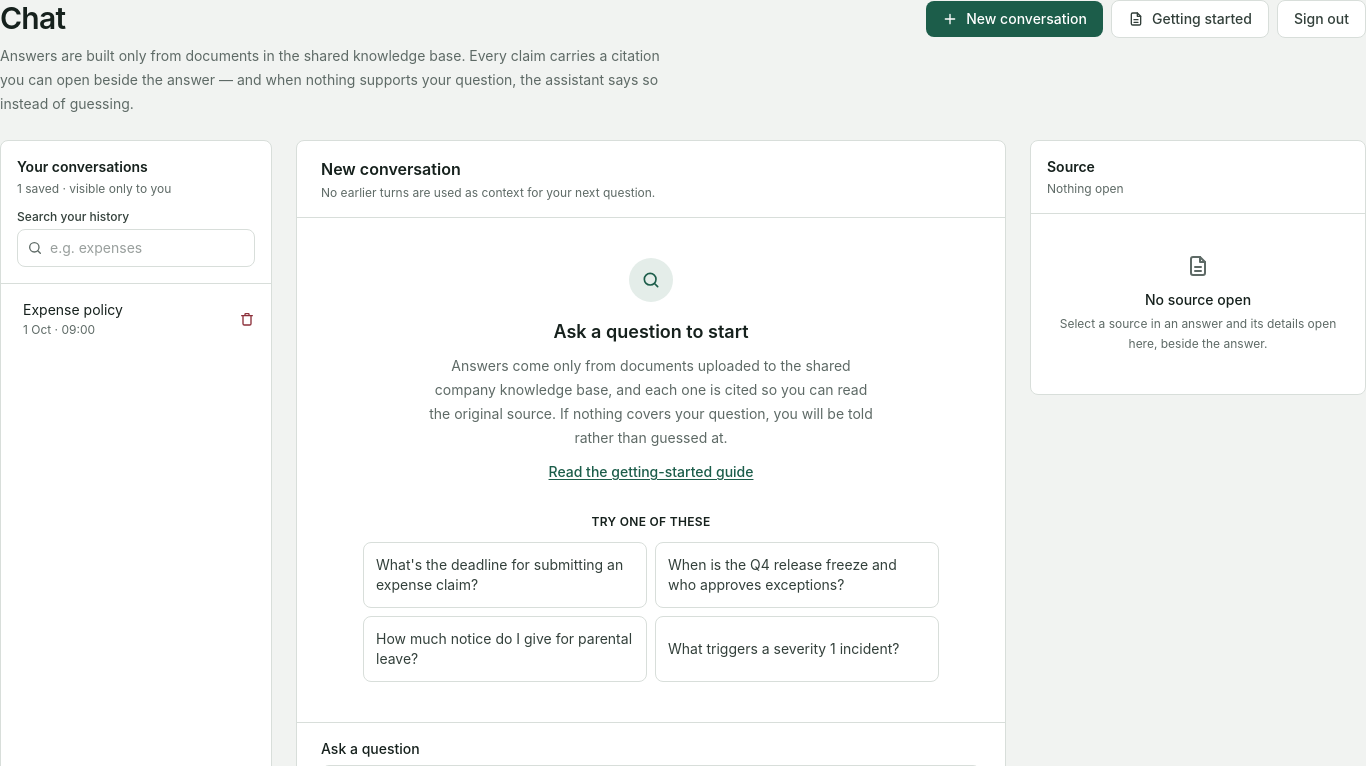
Scenario: Chat screen › reopens a conversation via GET /conversations/{id} and renders ordered turns with clickable citations
Click the text "Expense policy" at (73, 310), box [23,301,123,318]
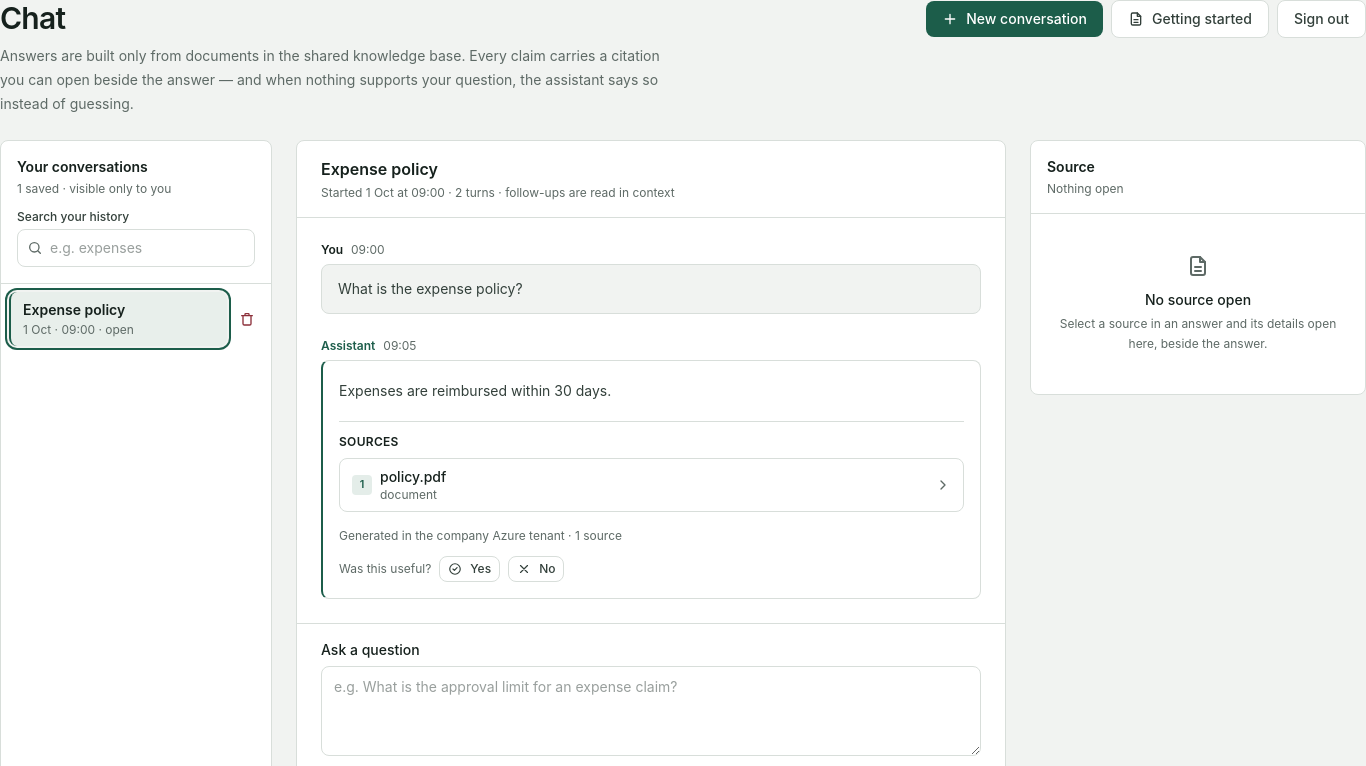
Now the text "What is the expense policy?" is shown, box [321,264,981,314]
Now the text "Expenses are reimbursed within 30 days." is shown, box [339,382,611,399]
Click the text "policy.pdf" at (413, 476), box [380,468,446,485]
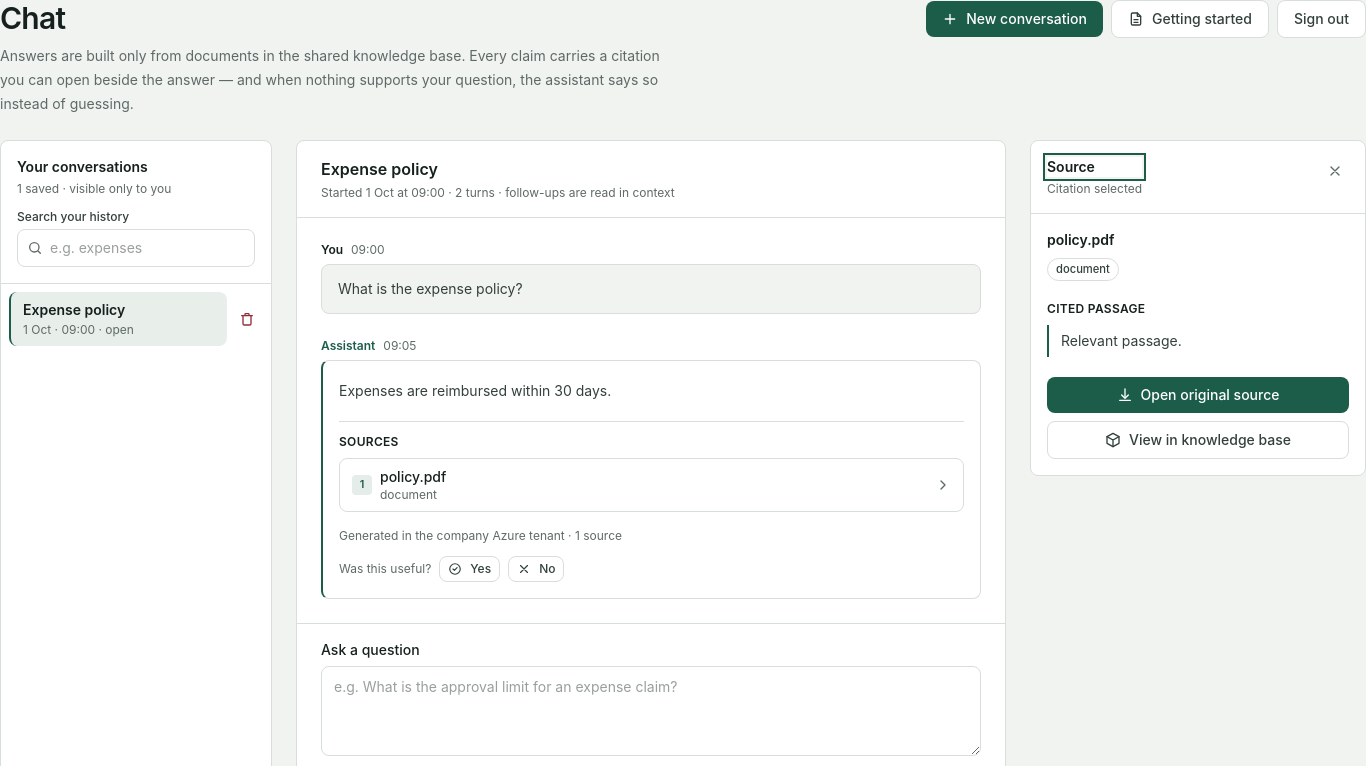
Now the link "Open original source" is shown, box [1047,377,1349,413]
